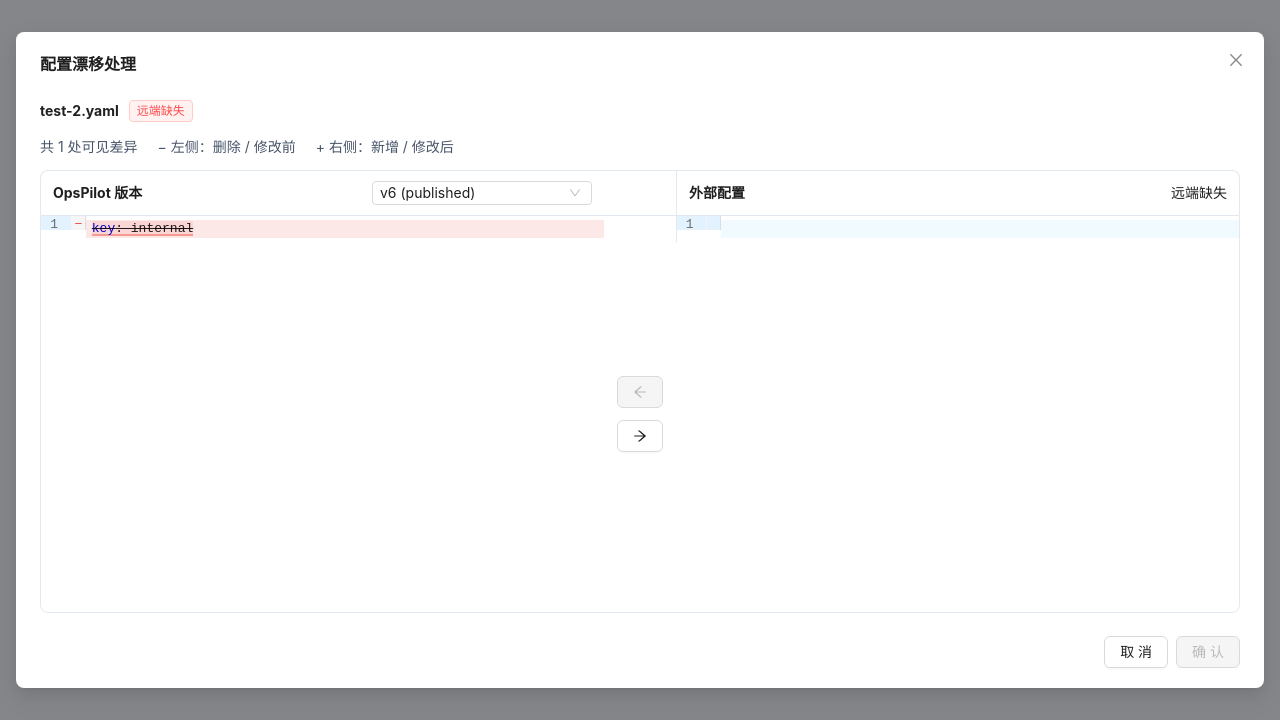
漂移确认 › 远端缺失时显示说明并高亮本地内容，保留重新发布预览
expect the element that starts with "test-2.yaml" shows "远端缺失": met, box top-left (137, 103), bottom-right (185, 118)
expect the element with class "cm-changedLine" is shown: met, box top-left (86, 220), bottom-right (604, 238)
Click the button named "重新发布 OpsPilot 版本" at point(640, 436), box top-left (617, 420), bottom-right (663, 452)
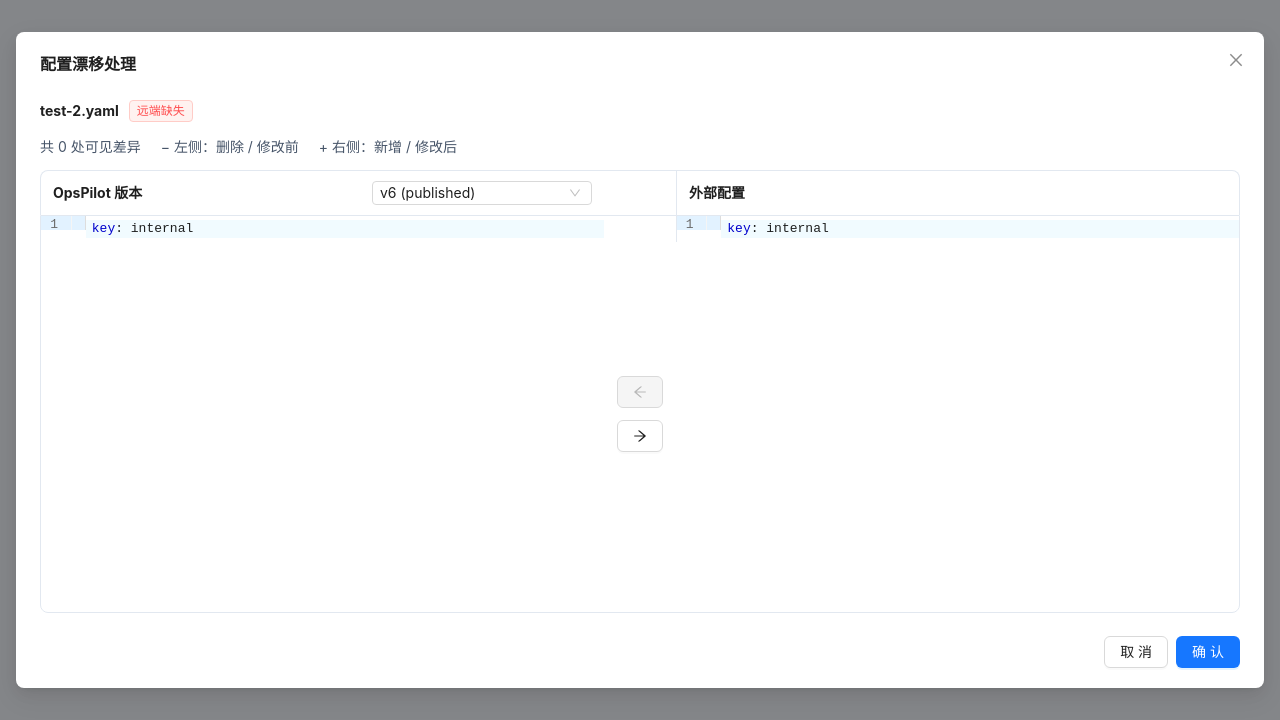
expect the 2nd field with class "cm-content" reads "key: internal": met, box top-left (721, 216), bottom-right (1239, 242)
